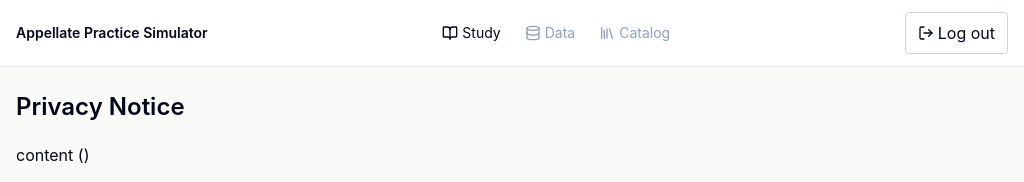
Test: OrganizationContextProvider › clears a stale public-route organization ID through the Study link
Expected: the heading "Privacy Notice" is shown, x1=16 y1=92 x2=185 y2=121
What coordinates should you click on to do the following:
click the link "Study"
I would click on:
 (472, 32)
Its box is x1=442 y1=24 x2=501 y2=41.
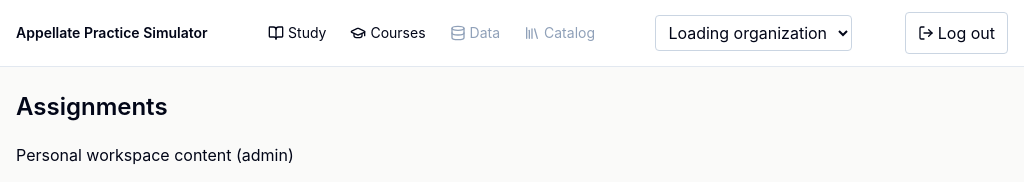
Now the text "Personal workspace content (admin)" is shown, box x1=16 y1=145 x2=294 y2=165
